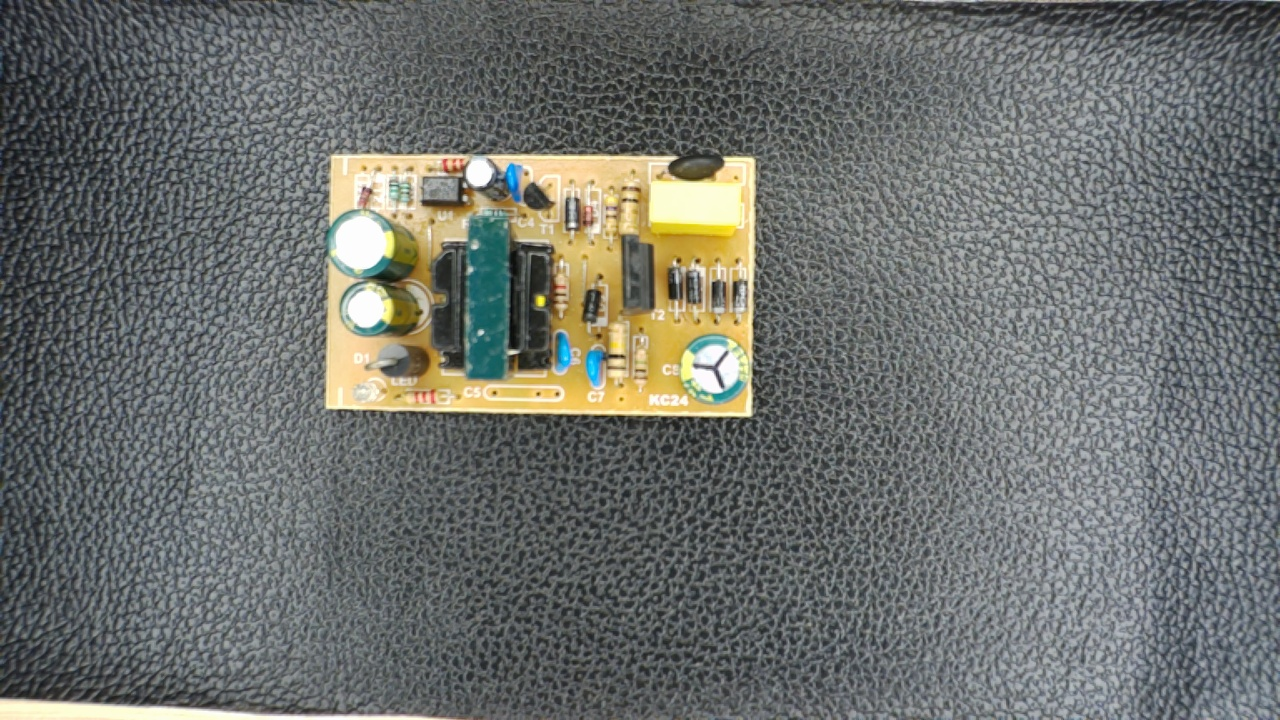fuse: (647, 147, 746, 186)
hv_capacitor: (674, 332, 756, 405)
optocoupler: (411, 168, 473, 215)
